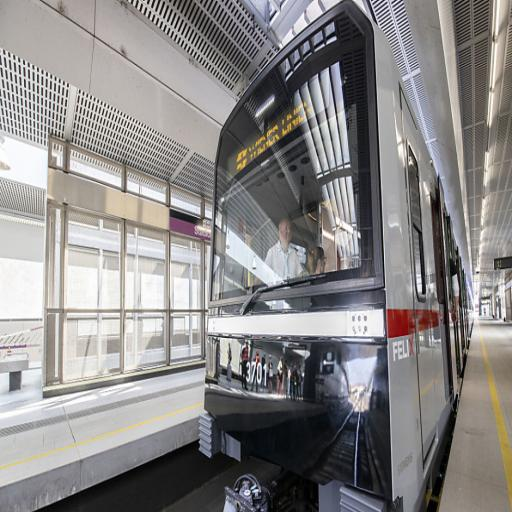X-Wagen: (207, 1, 464, 507)
